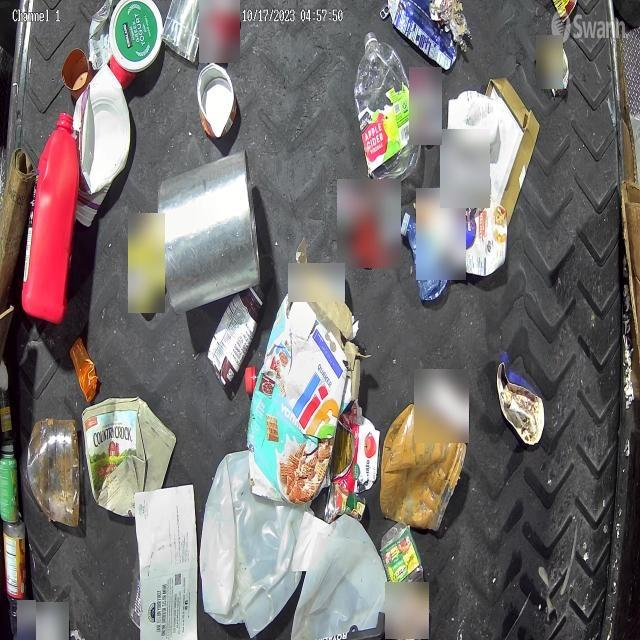milk_jug: (200, 448, 316, 638), (291, 515, 390, 640)
non_white_jug: (21, 106, 78, 320)
plastic_bottle: (354, 30, 422, 186)
